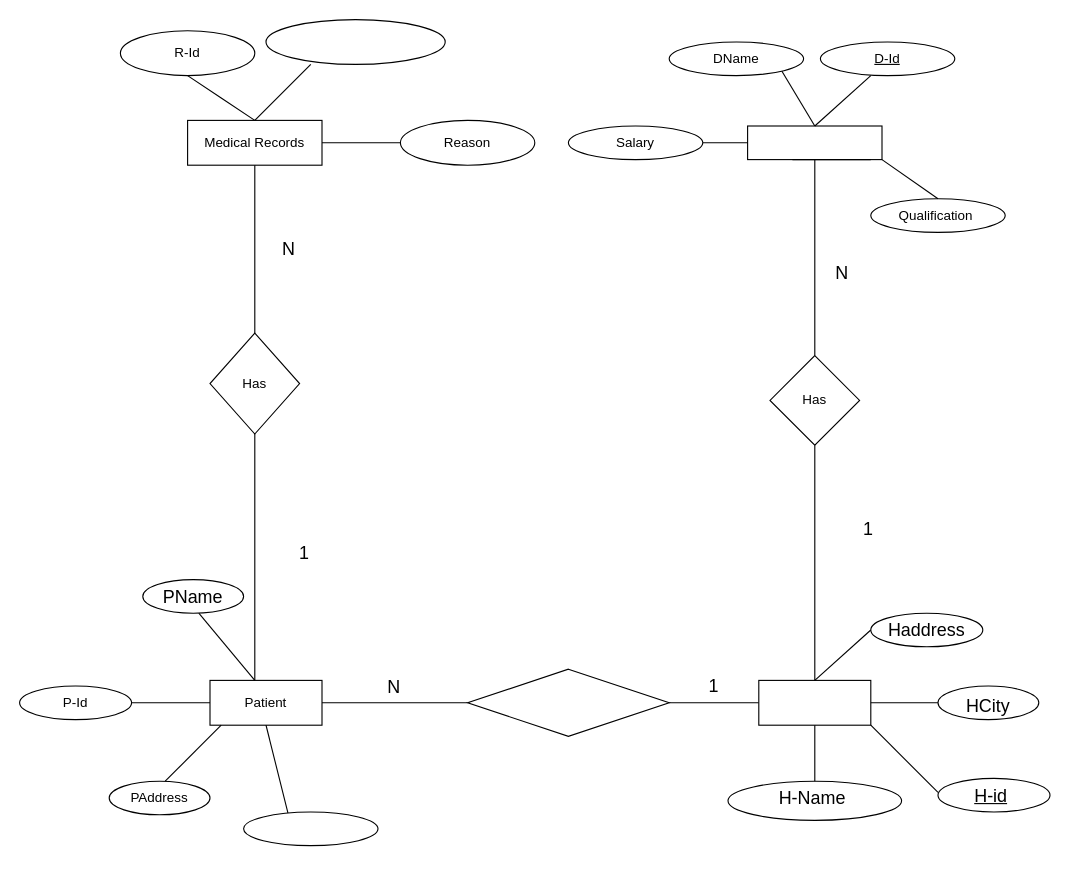
This 1070x874 diagram has some shape labels left out. Here are the shapes that lost their labels. From the top down, the centre of each, then its label:
the point at 355,41: Date_Of_Examination
the point at 814,142: Doctor
the point at 567,702: Admitted In
the point at 814,702: Hospital
the point at 310,828: PDiagnosis
